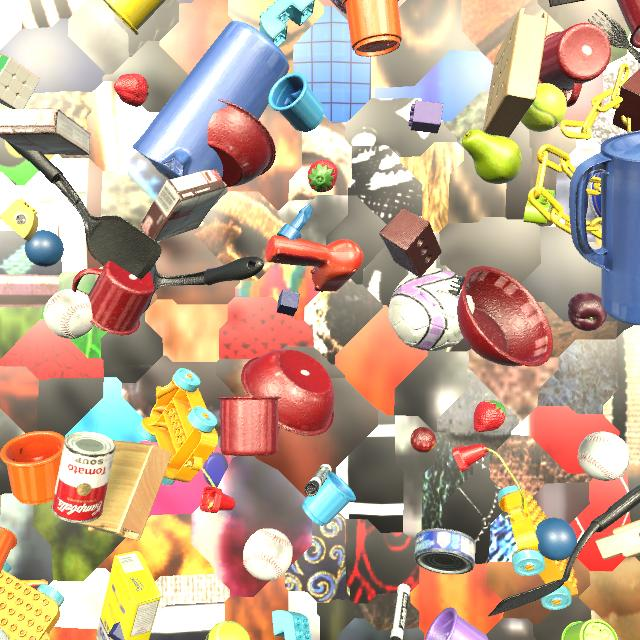ycb_002_master_chef_can: (588, 173, 601, 218), (0, 627, 9, 640)
ycb_004_sugar_box: (96, 551, 161, 640)
ycb_005_tomato_soup_can: (51, 431, 116, 523)
ycb_007_tuna_fish_can: (414, 528, 476, 575)
ycb_008_pudding_box: (140, 169, 227, 242), (0, 108, 90, 155), (549, 0, 585, 7)
ycb_012_strawberry: (114, 74, 149, 107), (474, 400, 506, 432), (307, 160, 338, 192)
ycb_016_pear: (462, 129, 522, 184)
ycb_018_plum: (568, 292, 607, 331)
